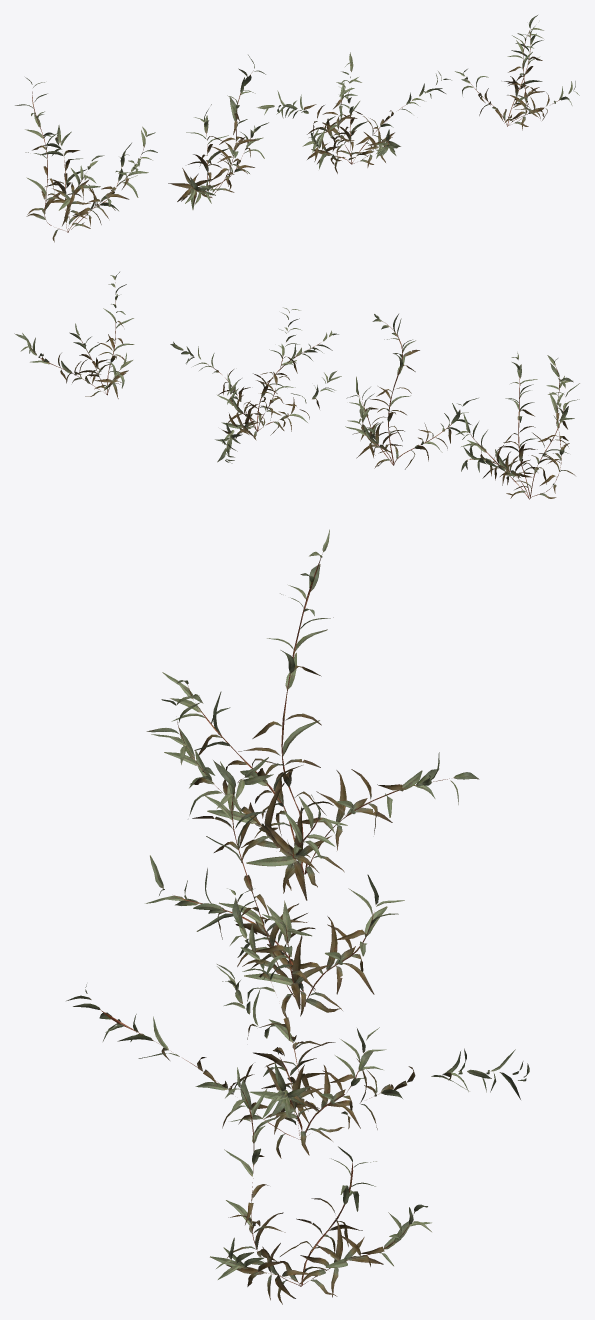
The model's file is shrub_02.glb.
The picture shows the model from 3 angles, top to bottom: view 1: azimuth 30°, elevation 25°; view 2: azimuth 150°, elevation 25°; view 3: azimuth 270°, elevation 25°; orthographic projection. The views are drawn at different scales.
Parts seen in each view (by area): view 1: shrub_02_a, shrub_02_c, shrub_02_b, shrub_02_d; view 2: shrub_02_a, shrub_02_c, shrub_02_b, shrub_02_d; view 3: shrub_02_a, shrub_02_c, shrub_02_b, shrub_02_d.
Boxes of the visible parts, box(x1,y1,x2,y2) form: shrub_02_a: box(15, 77, 157, 242); shrub_02_c: box(257, 52, 451, 173); shrub_02_b: box(168, 55, 268, 209); shrub_02_d: box(455, 15, 579, 130); shrub_02_a: box(456, 352, 579, 499); shrub_02_c: box(170, 307, 341, 463); shrub_02_b: box(345, 314, 478, 469); shrub_02_d: box(14, 272, 134, 398); shrub_02_a: box(146, 529, 479, 900); shrub_02_c: box(66, 888, 529, 1158); shrub_02_b: box(145, 757, 404, 1017); shrub_02_d: box(210, 1067, 431, 1304).
Bounding box in the file's own units: 6.05 × 1.7 × 2.29.
Materials: 1 (1 with a texture image).
